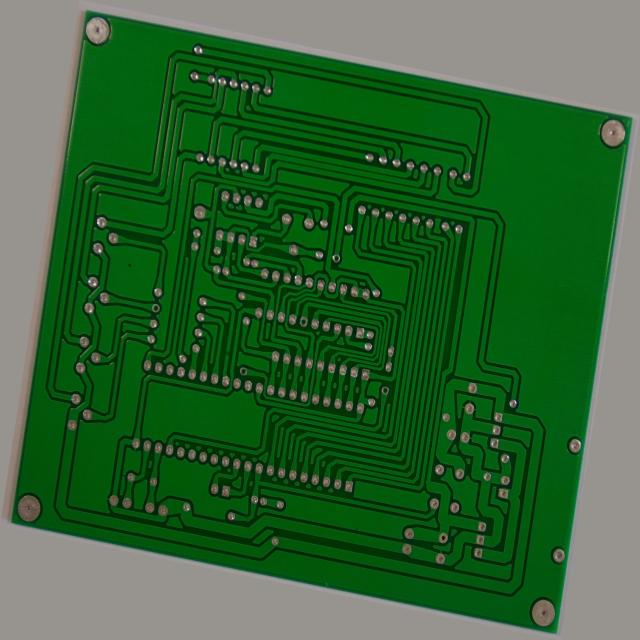missing_hole: (236, 391, 252, 406), (297, 317, 308, 335), (321, 235, 334, 250), (398, 379, 410, 394), (130, 339, 142, 352)
